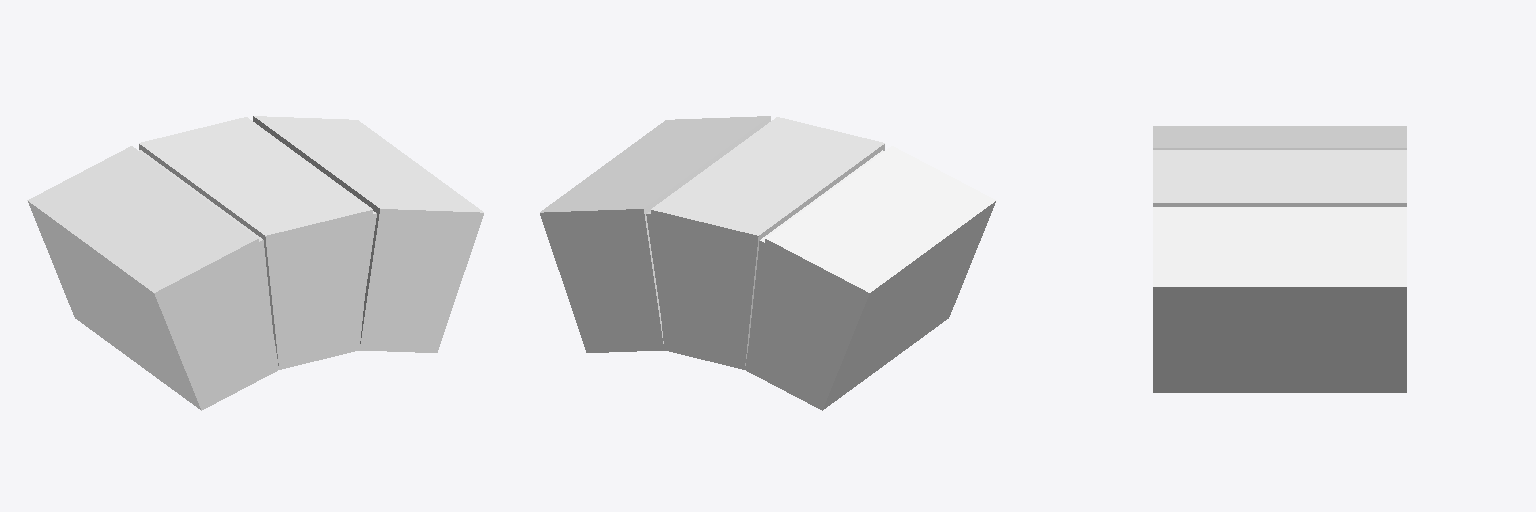
Rendered from generic_round_arch_3_middle.obj.
The picture shows the model from 3 angles: view 1: azimuth 30°, elevation 25°; view 2: azimuth 150°, elevation 25°; view 3: azimuth 270°, elevation 25°; orthographic projection.
Parts seen in each view (by area): view 1: arch_3_middle, arch_3_middle_inner; view 2: arch_3_middle, arch_3_middle_inner; view 3: arch_3_middle.
Boxes of the visible parts, x1,y1,x2,y2 form: arch_3_middle: [27, 116, 483, 410]; arch_3_middle_inner: [139, 150, 376, 326]; arch_3_middle: [540, 116, 996, 410]; arch_3_middle_inner: [646, 150, 883, 339]; arch_3_middle: [1153, 126, 1406, 392].
Size of the model in its own units: 1.61 by 0.7407 by 1.07.